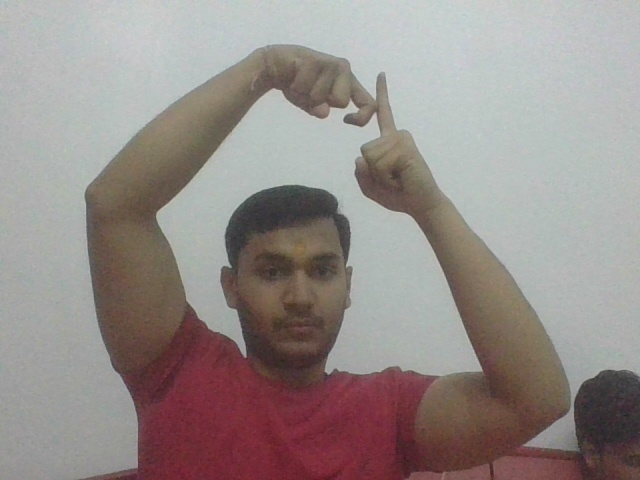K: (334, 57, 416, 147)
